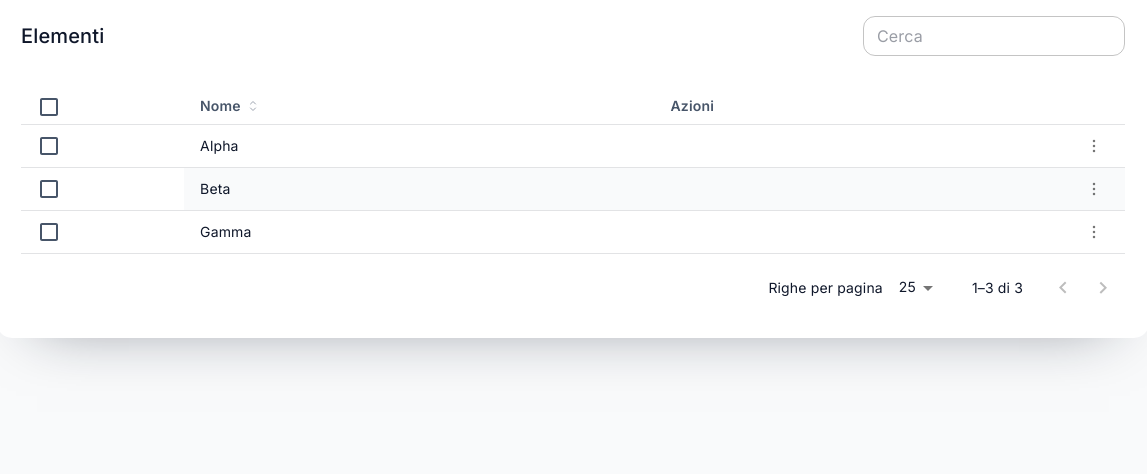
Test: ListPage bulk selection › clears selection when the search query changes
Expected: the text "Alpha" is shown, x1=184 y1=124 x2=655 y2=168
Click the checkbox named "Seleziona riga" at (49, 146), box x1=37 y1=134 x2=61 y2=158
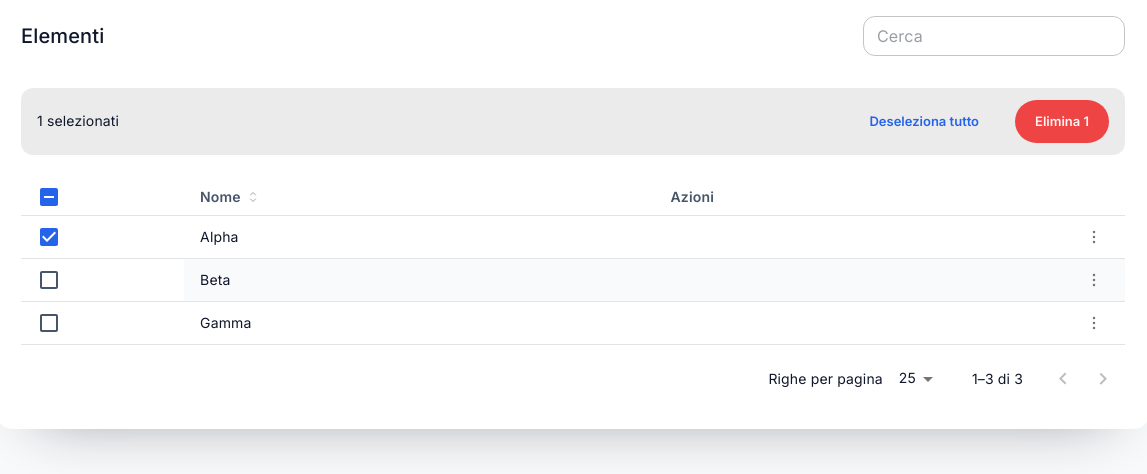
Now the text "1 selezionati" is shown, box x1=37 y1=110 x2=119 y2=133
Type "Alpha" into the field with placeholder "Cerca" at (994, 36), box x1=863 y1=16 x2=1125 y2=56
Then press Enter
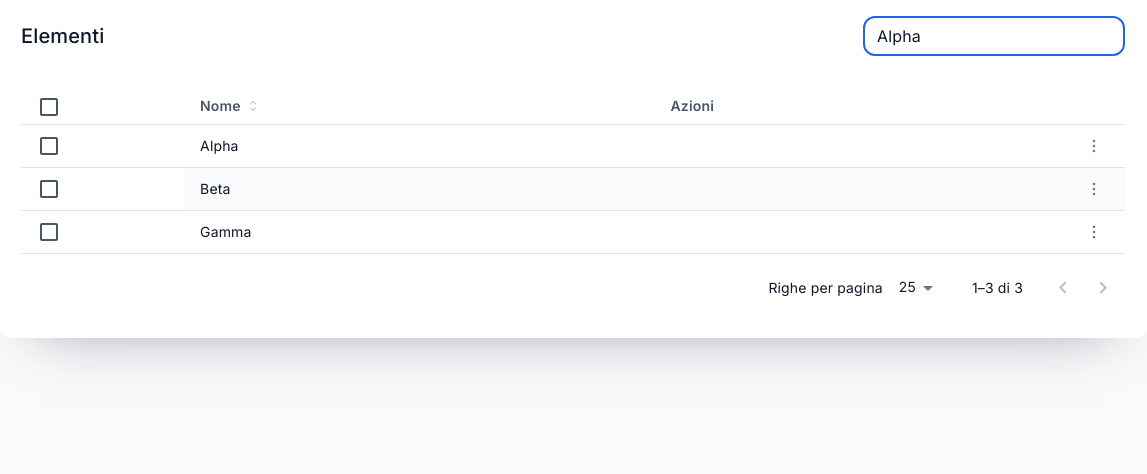
Now the text "selezionati" is gone
